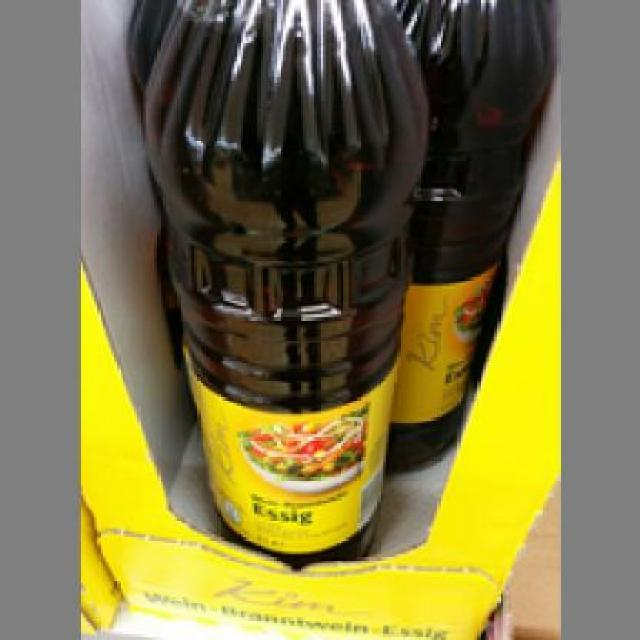Vinegar: (122, 0, 408, 563)
